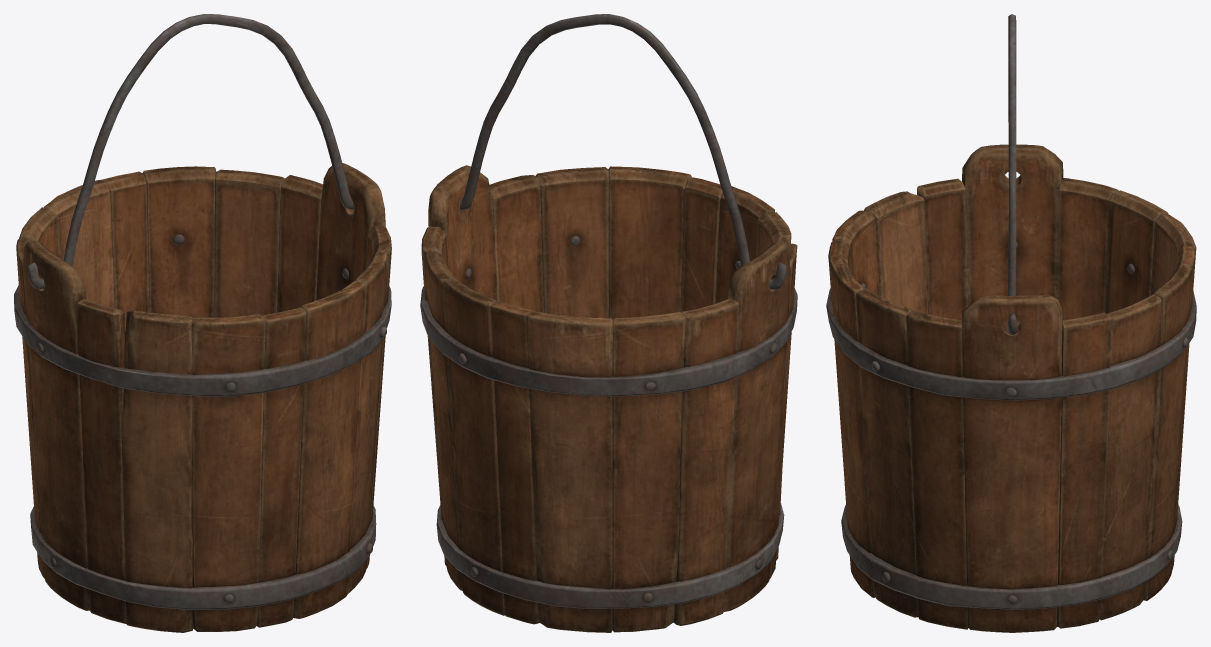
The picture shows the model from 3 angles, left to right: view 1: azimuth 30°, elevation 25°; view 2: azimuth 150°, elevation 25°; view 3: azimuth 270°, elevation 25°; orthographic projection.
Visible parts, largest first — view 1: wooden_bucket_01_lod0; view 2: wooden_bucket_01_lod0; view 3: wooden_bucket_01_lod0.
Boxes of the visible parts, x1,y1,x2,y2 form: wooden_bucket_01_lod0: (14,14,391,632); wooden_bucket_01_lod0: (420,14,797,632); wooden_bucket_01_lod0: (826,14,1196,632).
Size of the model in its own units: 0.367 by 0.5499 by 0.3422.
1 material, 1 textured.
